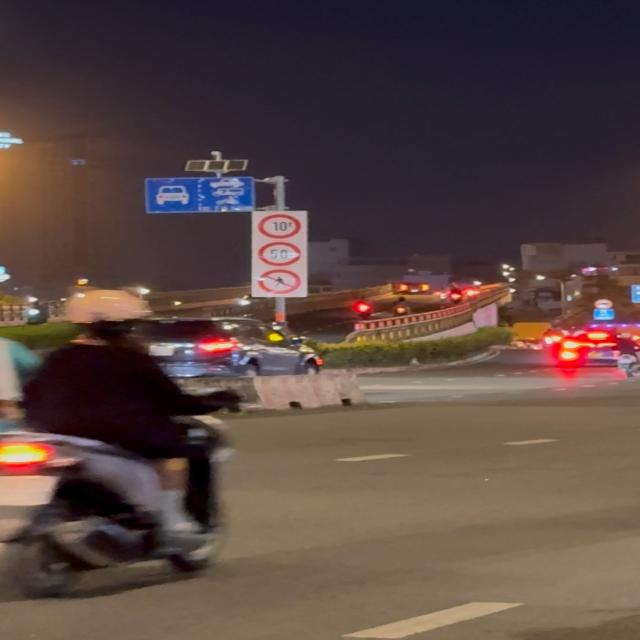Bien bao cam nguoi di bo: (256, 268, 304, 295)
Bien bao toc do toi da cho phep: (256, 242, 300, 268)
